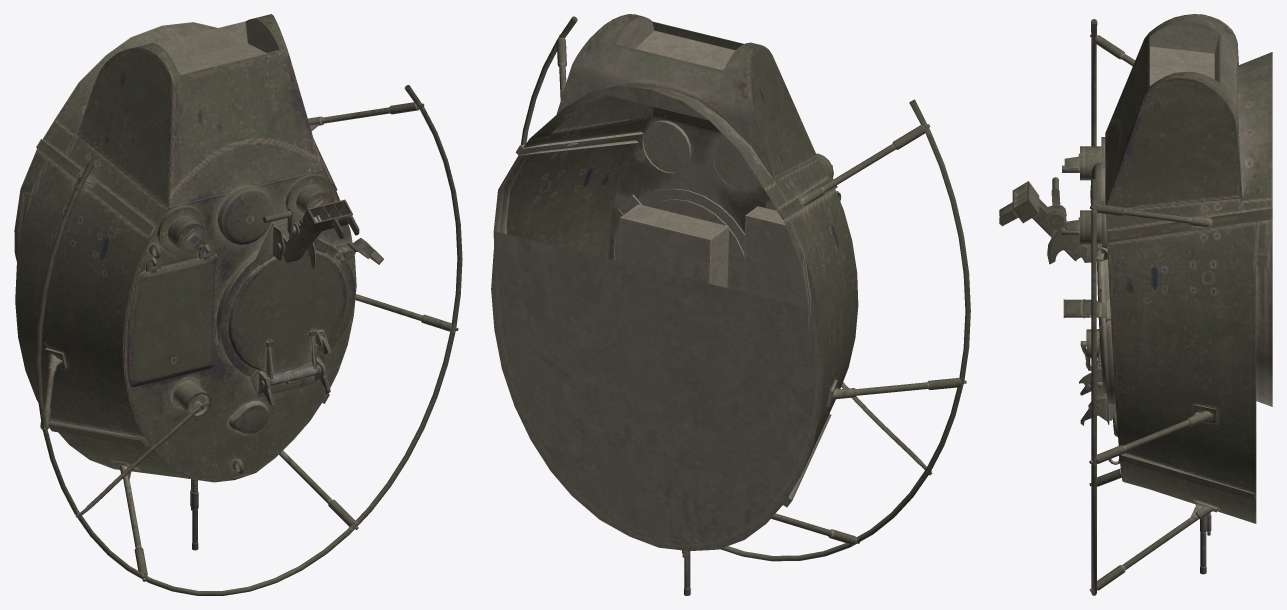
The model's file is Turret_02.glb.
3 renders of one model, left to right at view 1: azimuth 30°, elevation 25°; view 2: azimuth 150°, elevation 25°; view 3: azimuth 270°, elevation 25°, orthographic. The views are drawn at different scales.
Visible parts, largest first — view 1: set_0_group_0; view 2: set_0_group_0; view 3: set_0_group_0.
Part boxes in pixels (x1=…): set_0_group_0: x1=14, y1=14, x2=462, y2=595; set_0_group_0: x1=491, y1=14, x2=970, y2=595; set_0_group_0: x1=999, y1=14, x2=1272, y2=595.
Bounding box in the file's own units: 1.96 × 2.29 × 1.06.
1 material, 1 textured.
